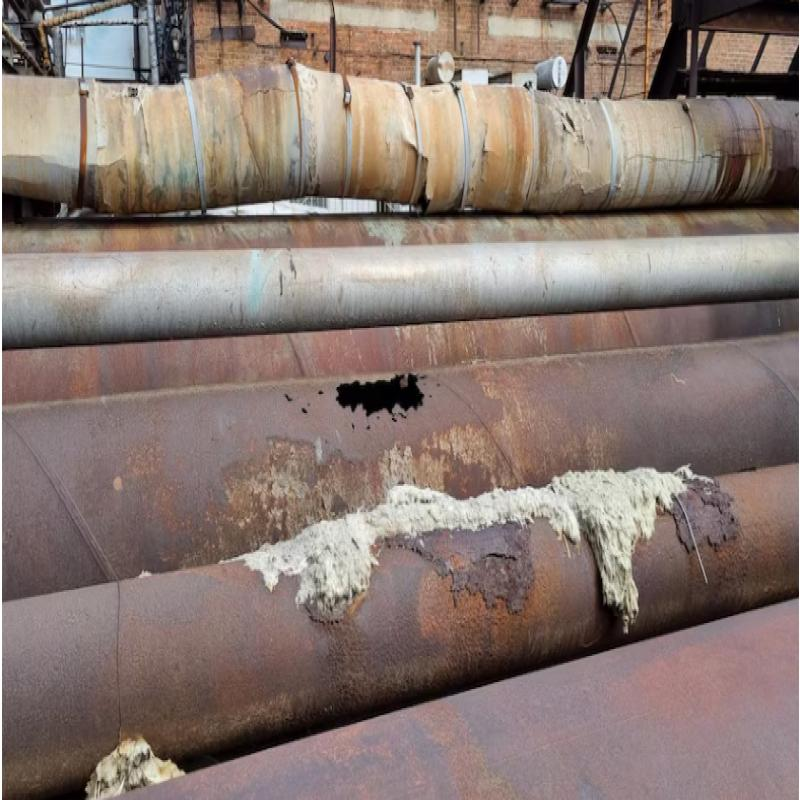Fracture: (335, 354, 431, 425)
corrosion: (282, 460, 693, 568)
